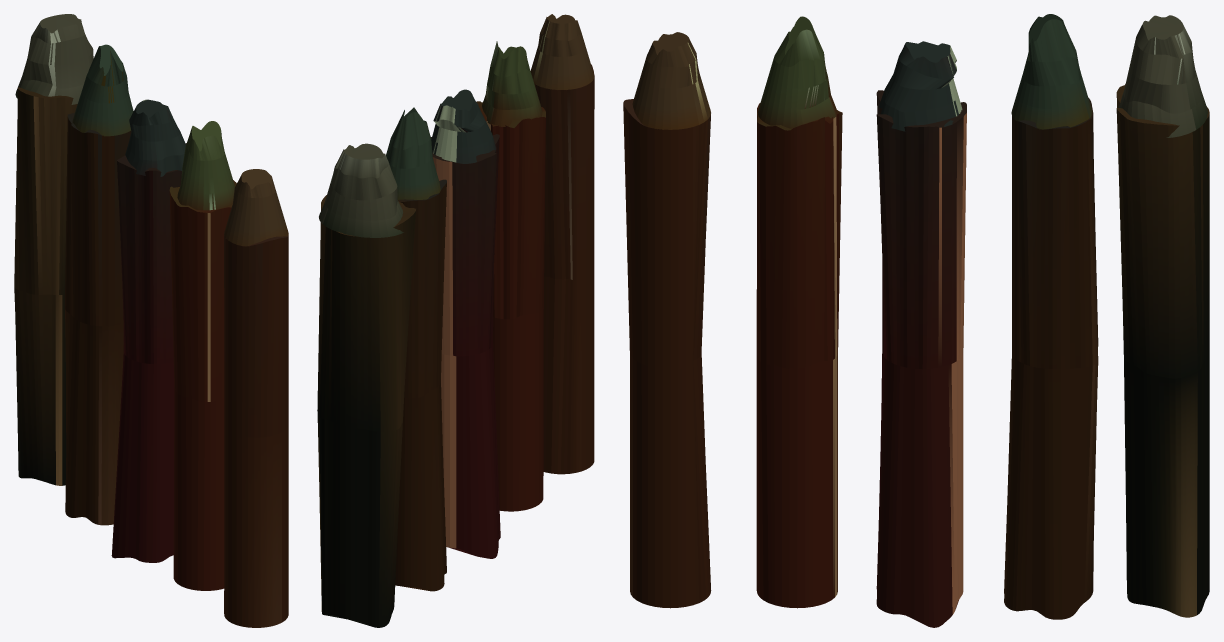
The model's file is острог.fbx.
3 renders of one model, left to right at view 1: azimuth 30°, elevation 25°; view 2: azimuth 150°, elevation 25°; view 3: azimuth 270°, elevation 25°, orthographic. The views are drawn at different scales.
Visible parts, largest first — view 1: Цилиндр, Цилиндр.008, Цилиндр.007, Цилиндр.009, Цилиндр.006; view 2: Цилиндр.009, Цилиндр.007, Цилиндр, Цилиндр.006, Цилиндр.008; view 3: Цилиндр.009, Цилиндр.008, Цилиндр.007, Цилиндр.006, Цилиндр.
Part boxes in pixels (x1,y1,x2,y2): Цилиндр: (224, 169, 288, 627); Цилиндр.008: (65, 44, 133, 525); Цилиндр.007: (111, 99, 186, 562); Цилиндр.009: (14, 14, 93, 485); Цилиндр.006: (169, 121, 236, 590); Цилиндр.009: (317, 143, 416, 627); Цилиндр.007: (431, 89, 500, 558); Цилиндр: (530, 14, 594, 474); Цилиндр.006: (476, 41, 545, 511); Цилиндр.008: (386, 107, 446, 591); Цилиндр.009: (1116, 15, 1209, 617); Цилиндр.008: (1004, 14, 1098, 619); Цилиндр.007: (876, 41, 966, 627); Цилиндр.006: (756, 16, 842, 608); Цилиндр: (623, 32, 711, 608).
Bounding box in the file's own units: 302 × 1595 × 1444.
